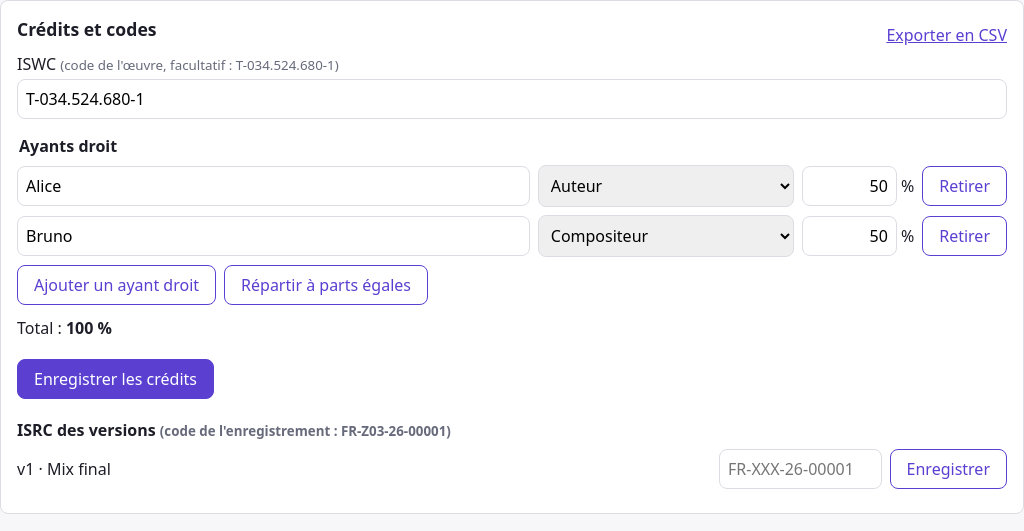
Test: SongRightsSection › enregistre l’ISRC d’une version et affiche sa forme lisible
Step 1. Type "frz032600001" into the field with placeholder "FR-XXX-26-00001" → (800, 469), box [719, 449, 882, 489]
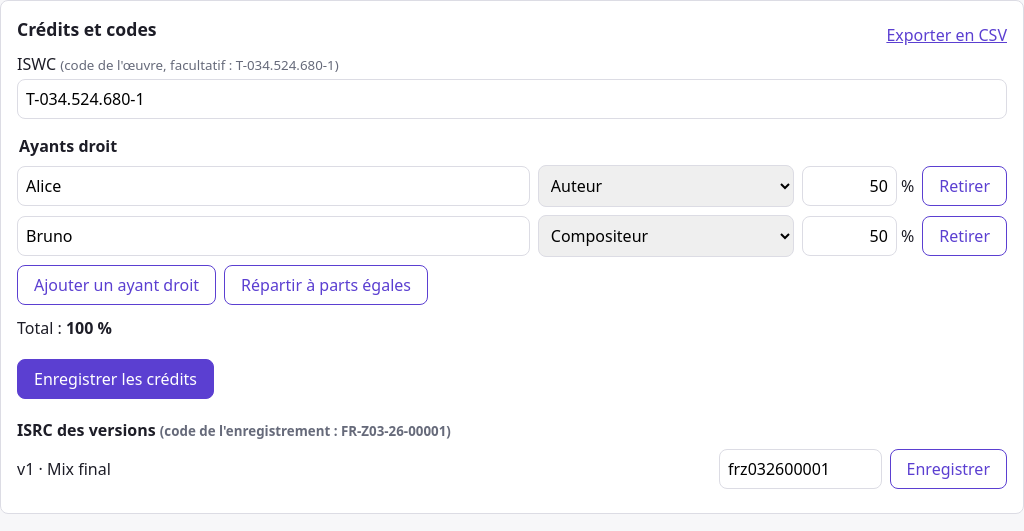
Step 2. Submit the form "Enregistrer", box [719, 449, 1007, 489]
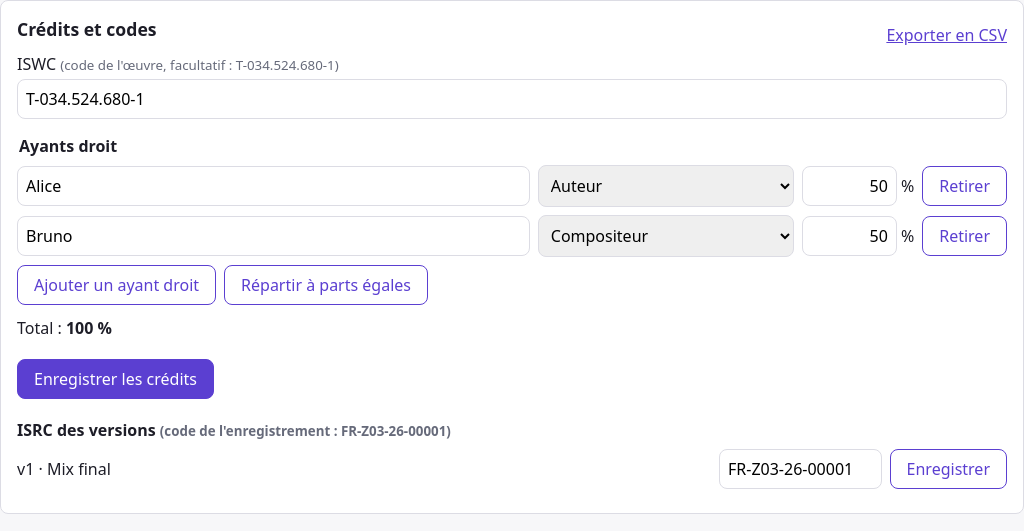
expect the field named "ISRC de la version 1" holds "FR-Z03-26-00001": met, box [719, 449, 882, 489]
